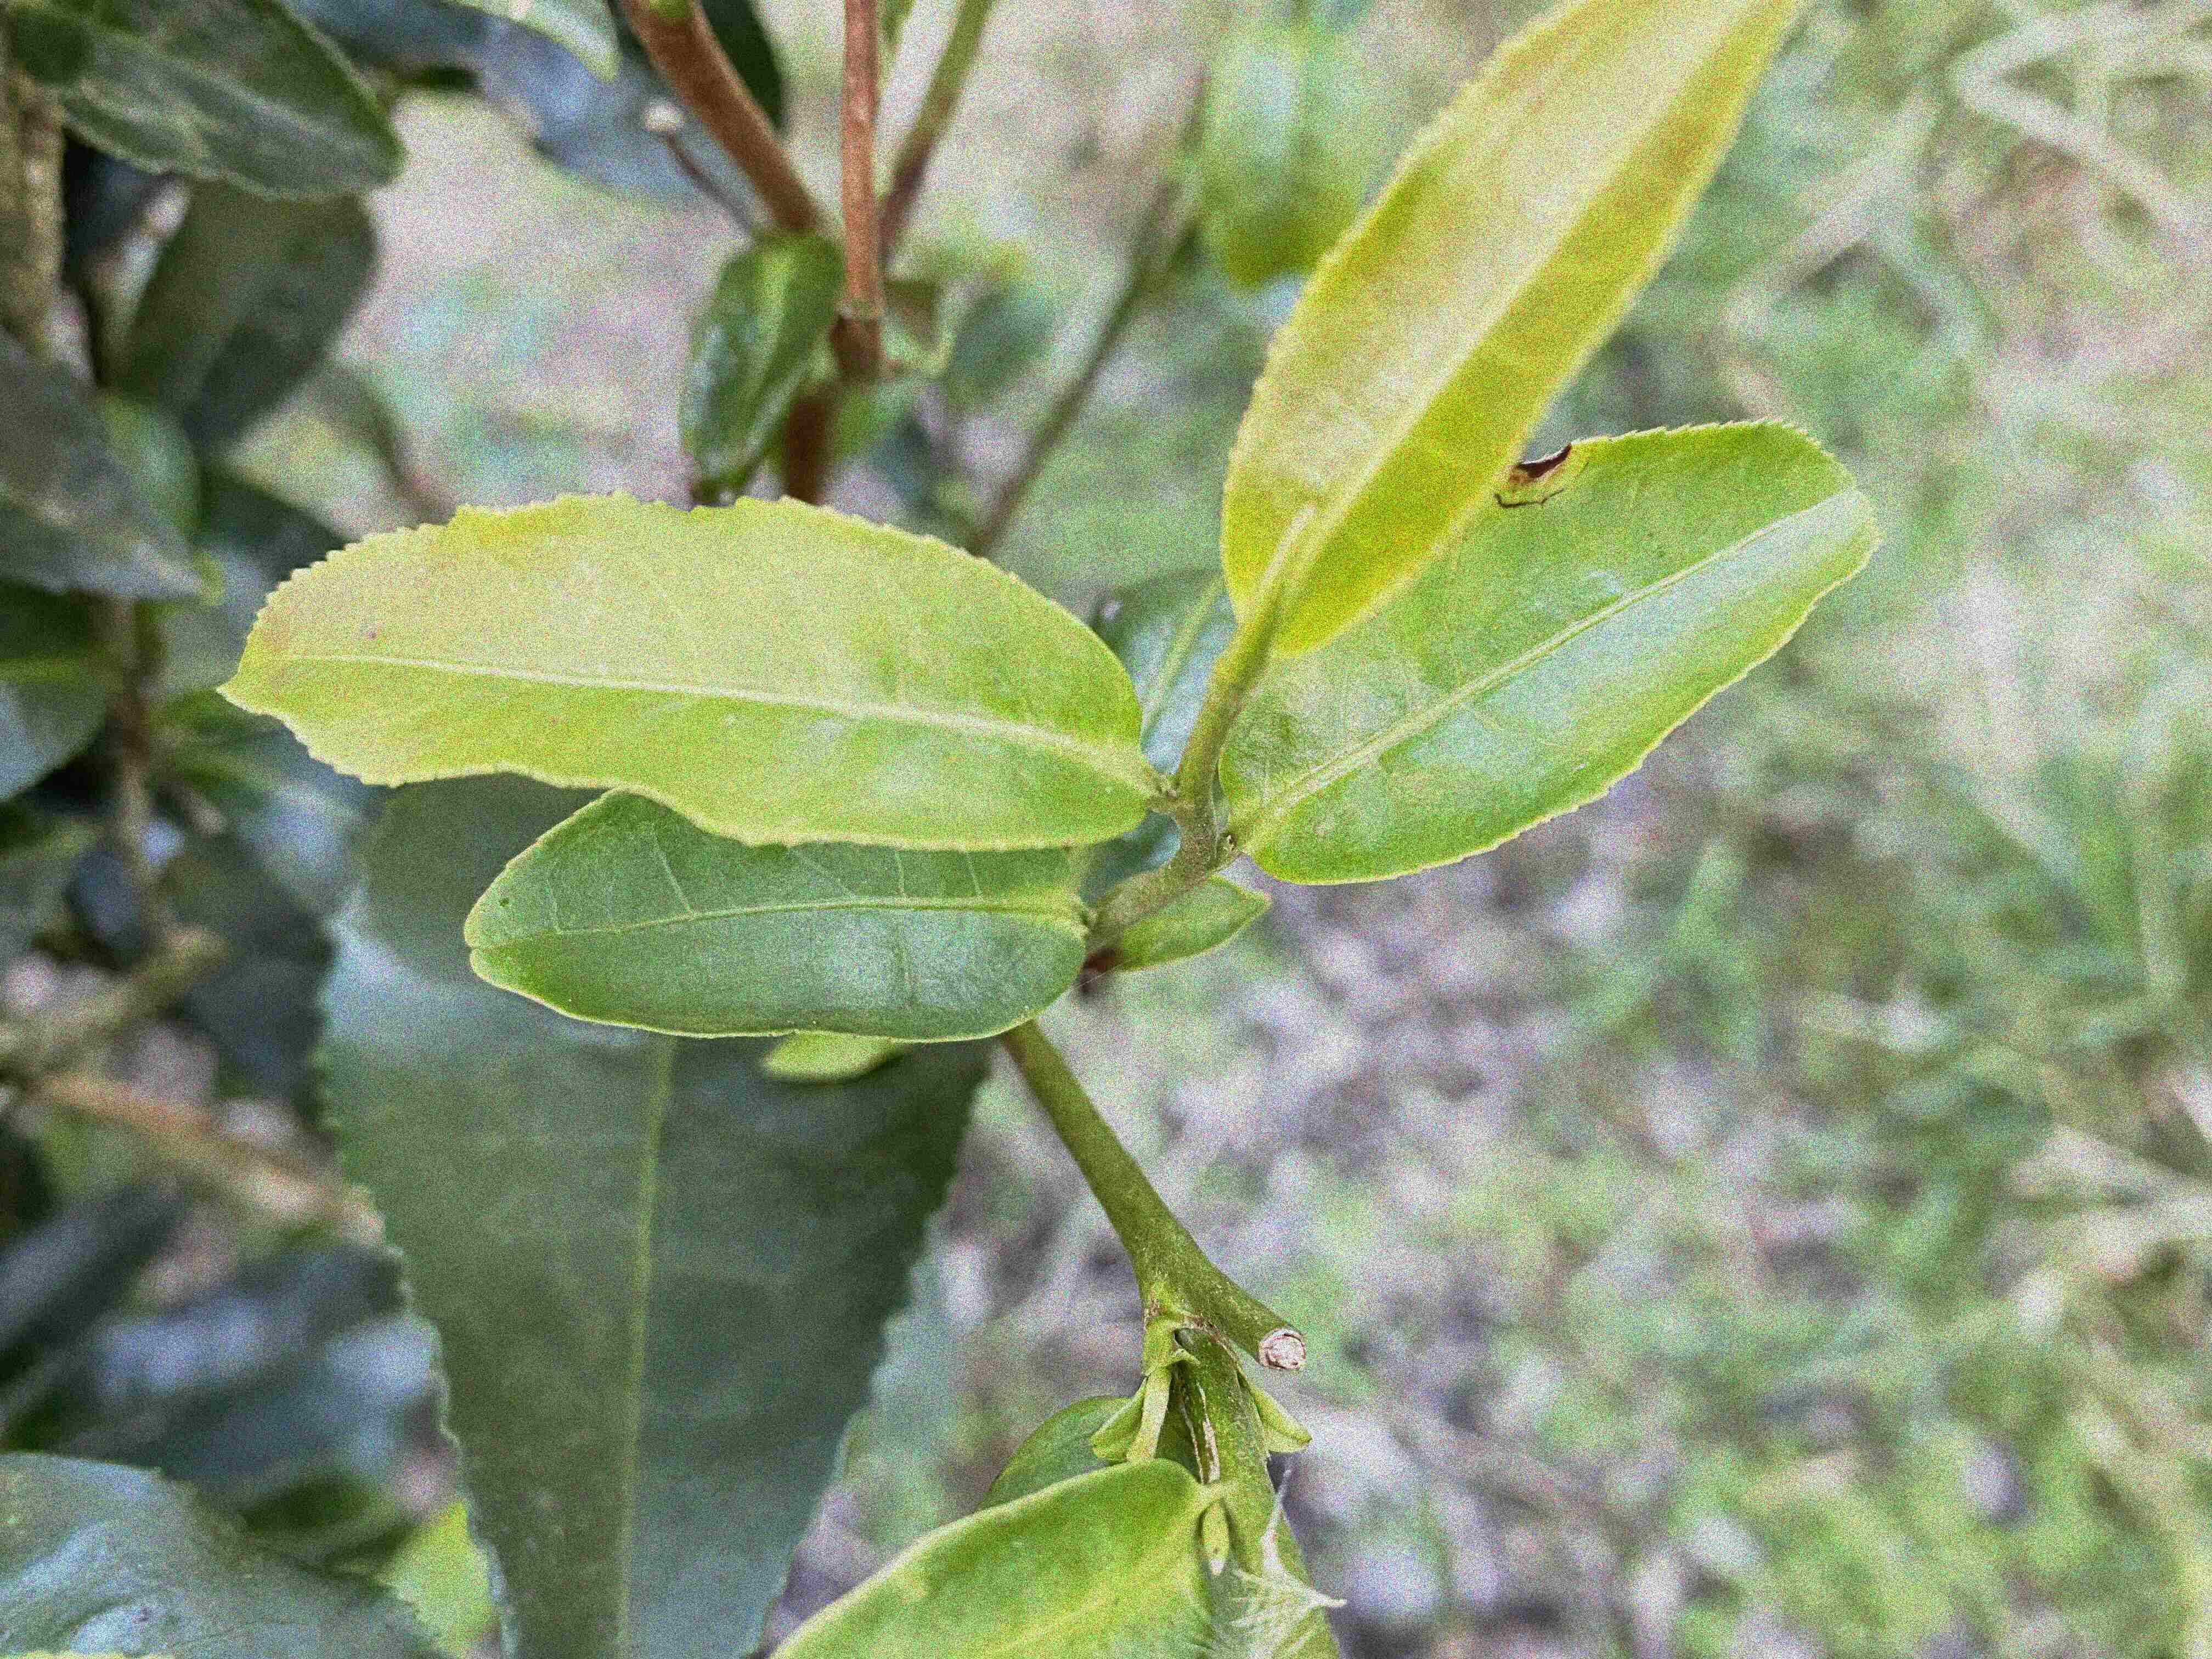healthy: (212, 488, 1153, 849), (465, 788, 1085, 1046)
tanju_high: (1216, 413, 1883, 890)
tanju_low: (1212, 5, 1810, 667)
